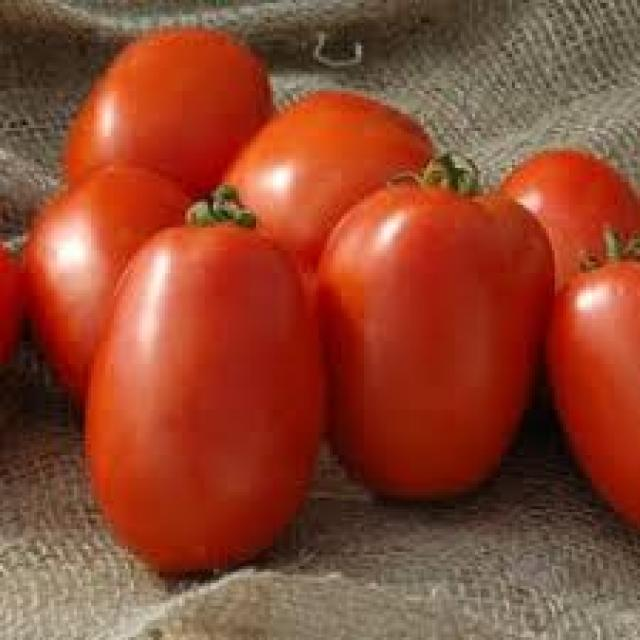Fresh_tomato: (101, 219, 285, 557), (326, 214, 522, 491), (101, 2, 286, 195), (25, 194, 171, 358), (296, 84, 466, 215), (557, 273, 640, 512), (495, 160, 640, 262)
